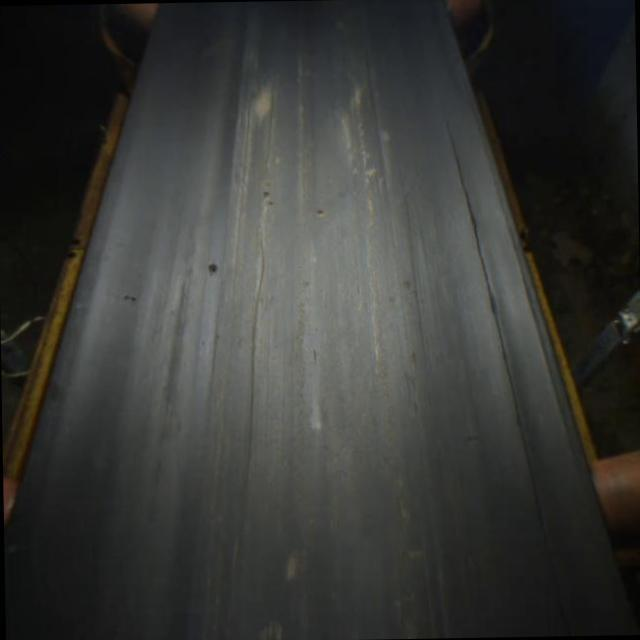Hole: (201, 260, 219, 276)
Puncture: (309, 206, 328, 217), (262, 190, 270, 200), (266, 199, 276, 207)
Tear: (438, 115, 554, 549), (236, 240, 270, 490)
